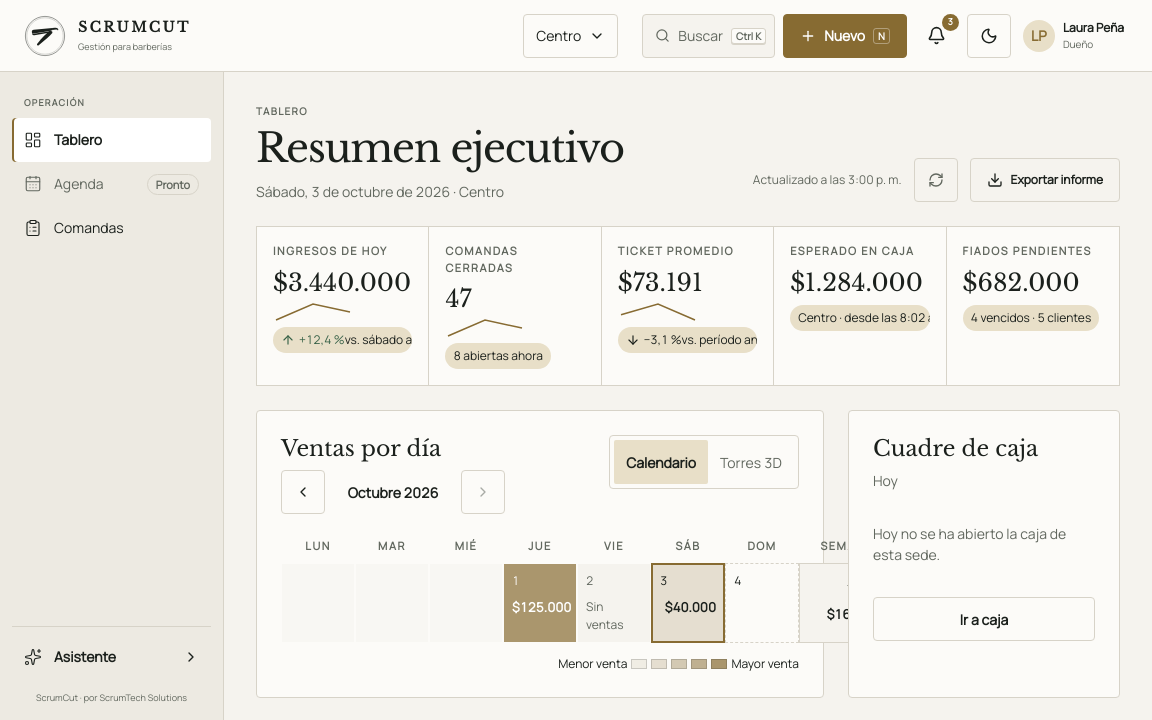
Test: selector de sede › muestra las sedes del servidor con la actual marcada, «Todas las sedes» y Gestionar sedes
The width and height of the screenshot is (1152, 720).
Click the button with aria-label "Sede: Centro. Cambiar de sede". click: {"x": 571, "y": 36}
box: [523, 14, 618, 58]
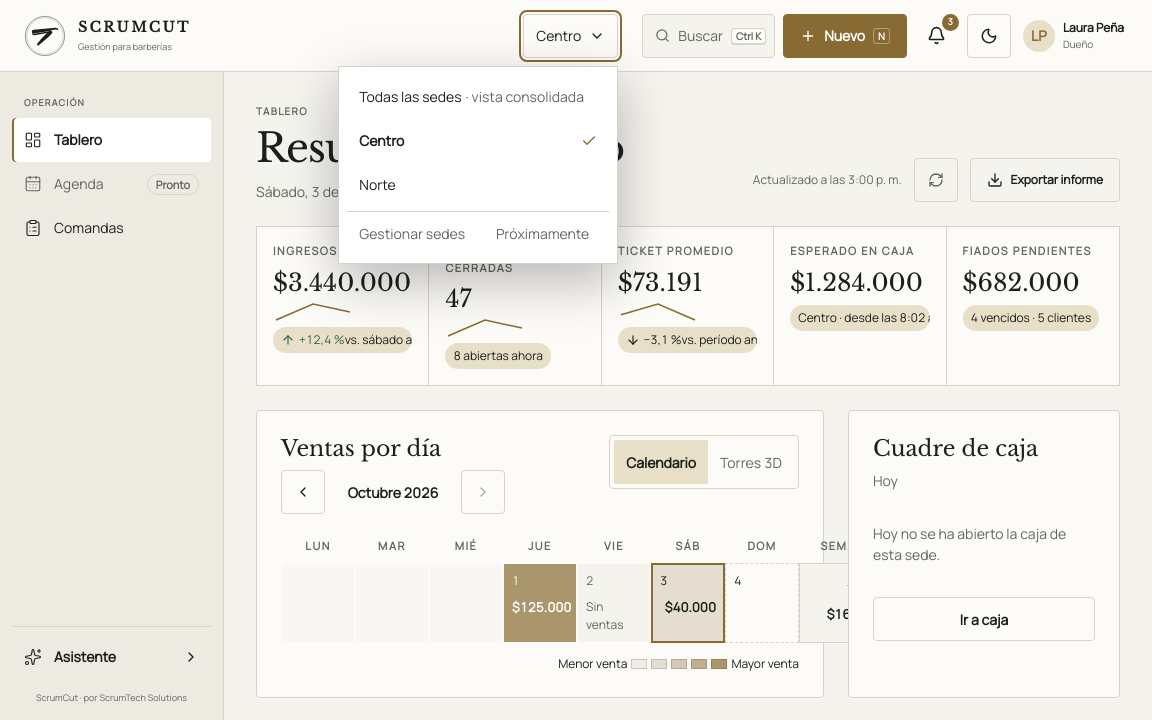
Check: the button "Todas las sedes · vista consolidada" is shown, box [347, 74, 609, 118]
Check: the text "Gestionar sedes" is shown, box [359, 222, 465, 244]
